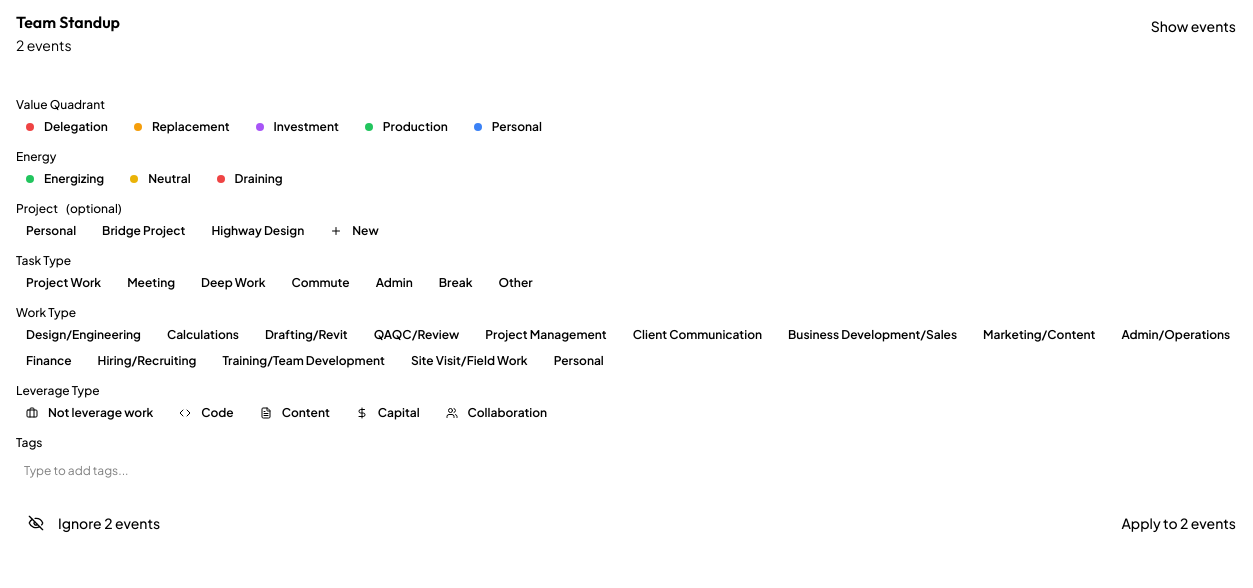
Scenario: GroupCard - Redesigned with all-visible chips › shows new project input when + New chip is clicked
Click the text "New": (354, 230) [330,223,379,238]
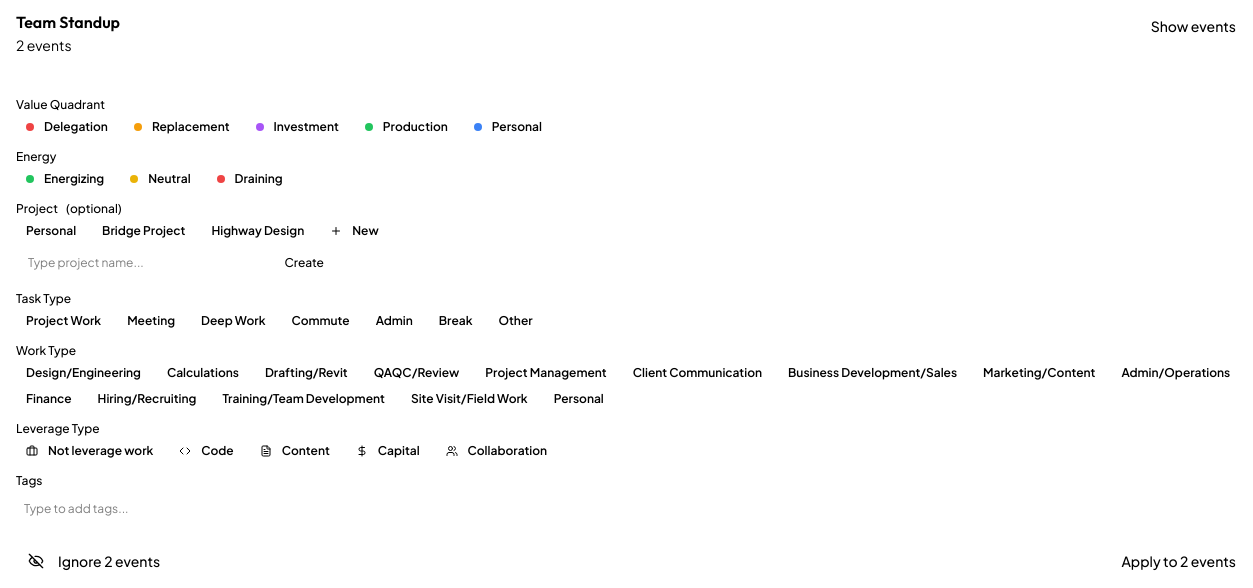
expect the field with placeholder "Type project name..." is shown: met, box [16,247,266,279]
